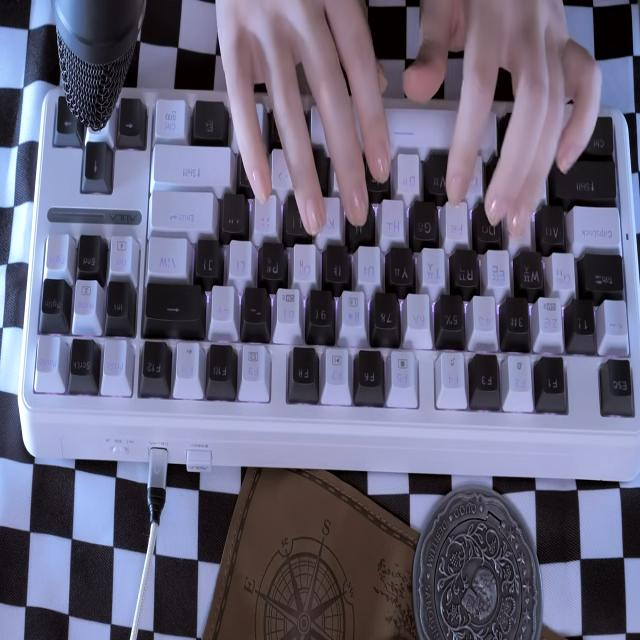keyboard-with-hands: (25, 90, 640, 430)
